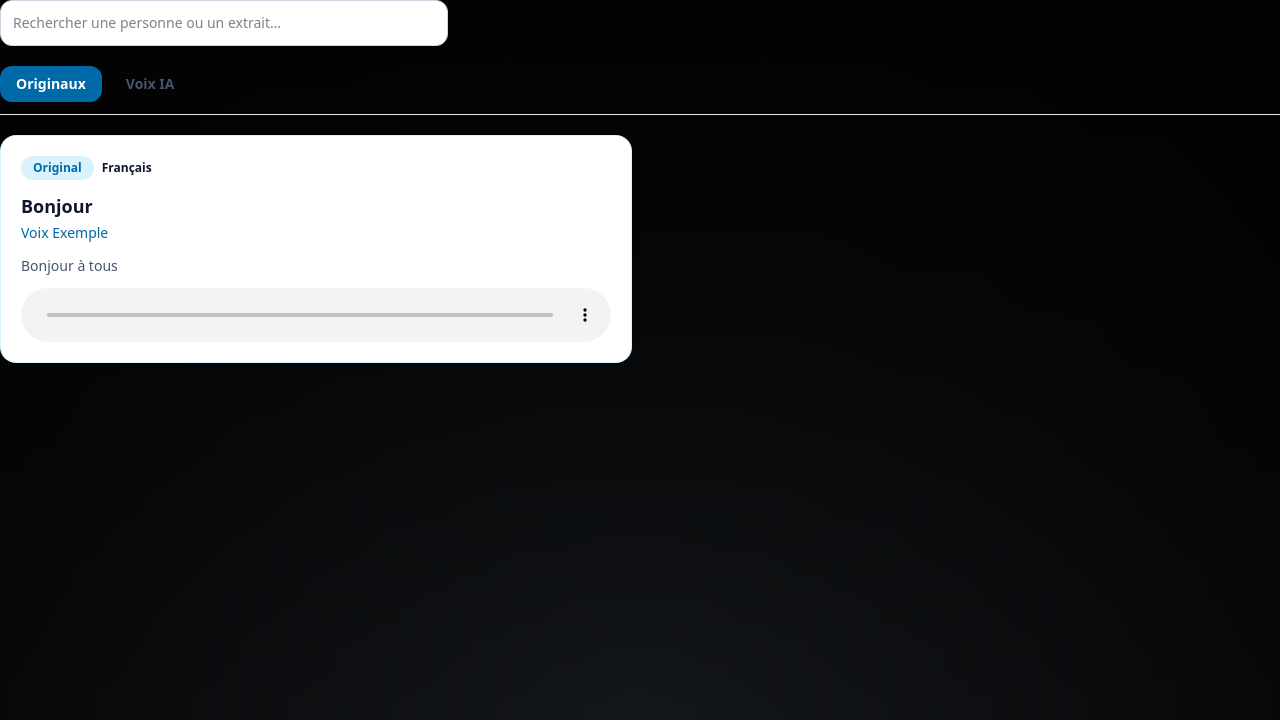
Scenario: les onglets filtrent les catégories et réinitialisent la recherche
This screenshot has width=1280, height=720.
Check: the element named "Original : Bonjour" is shown, box [21,288,611,342]
Type "test" into the field named "Rechercher une voix". click: point(224, 23)
box: [0,0,448,46]
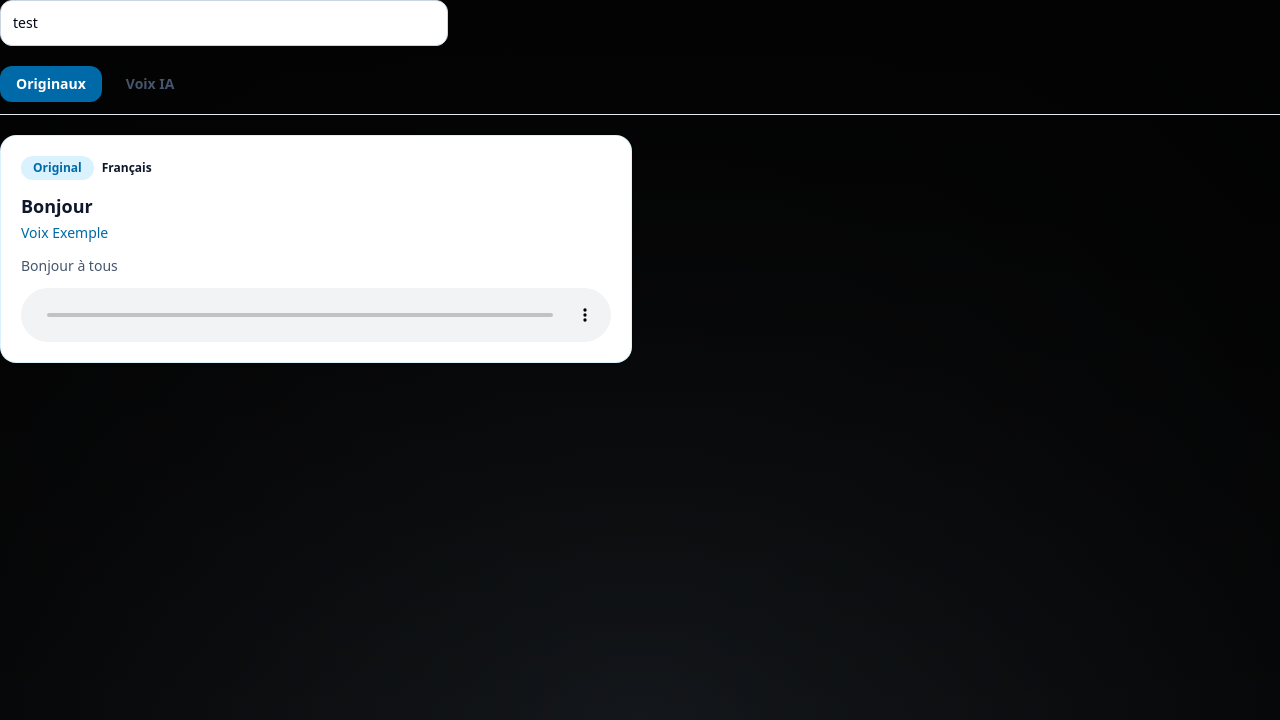
Click the tab "Voix IA". click: point(150, 84)
box: [110,66,190,102]
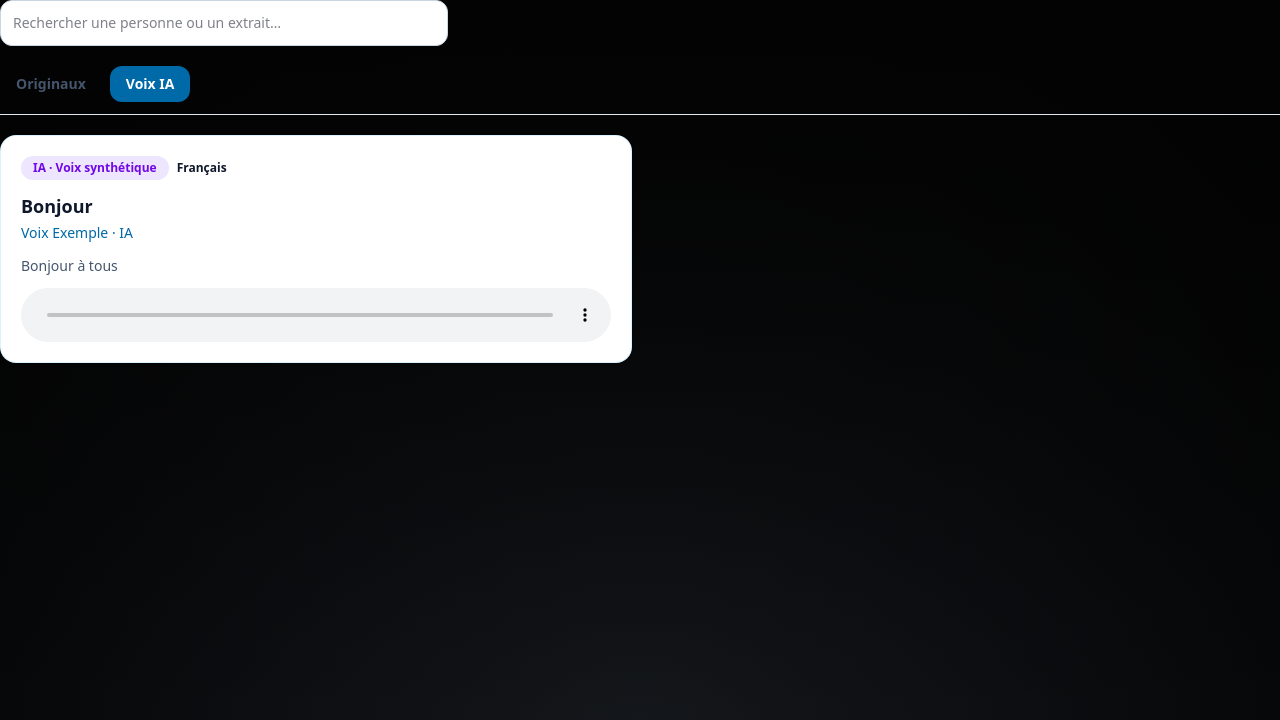
Check: the element named "IA : Bonjour" is shown, box [21,288,611,342]
Press ArrowLeft in the tab "Voix IA", box [110,66,190,102]
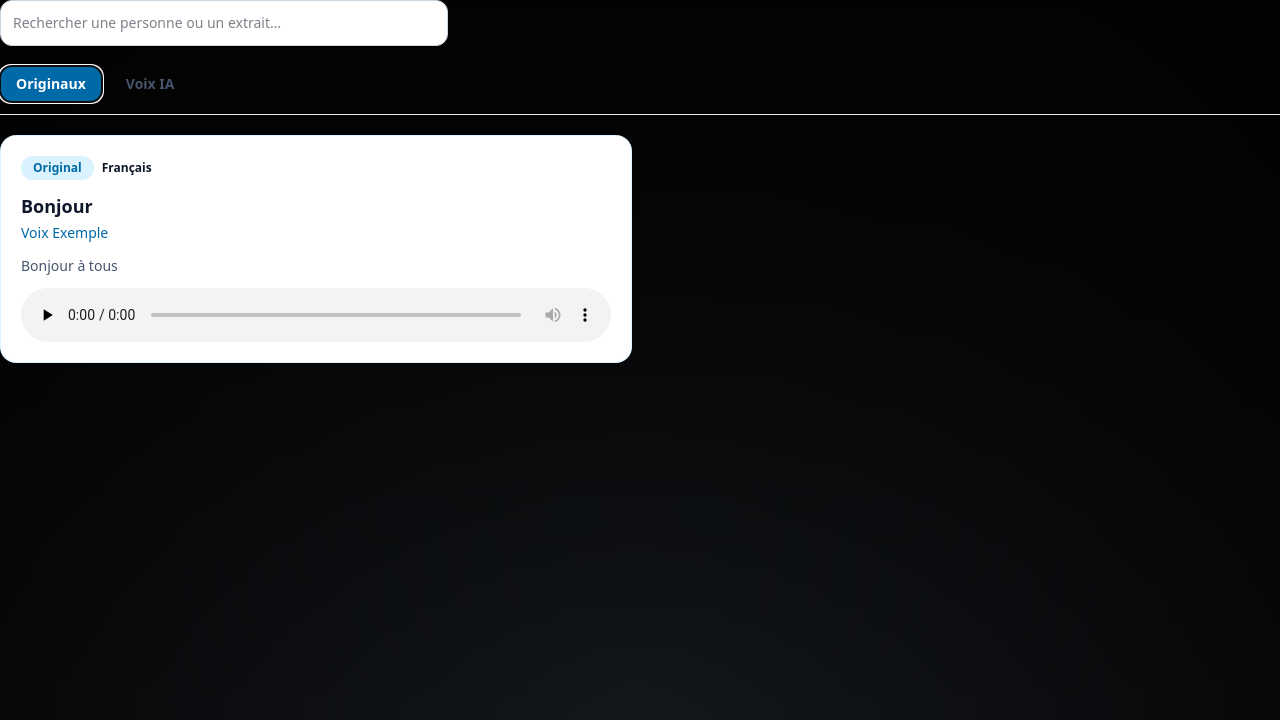
Check: the element named "Original : Bonjour" is shown, box [21,288,611,342]
